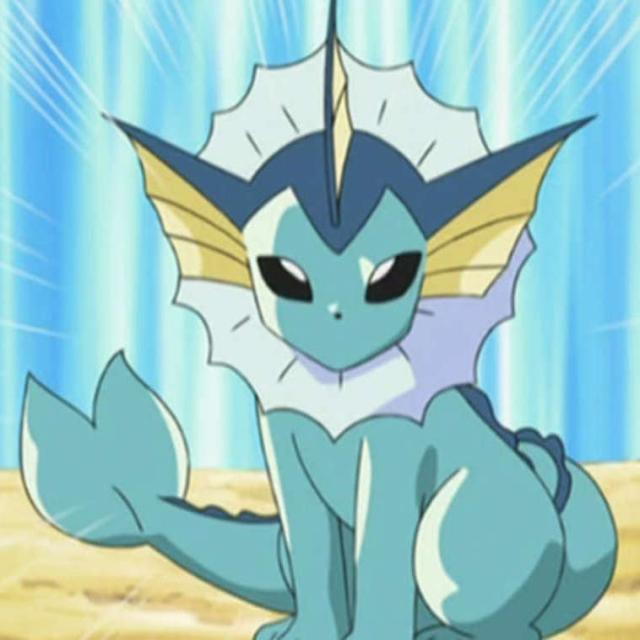Vaporeon: (187, 42, 552, 634)
